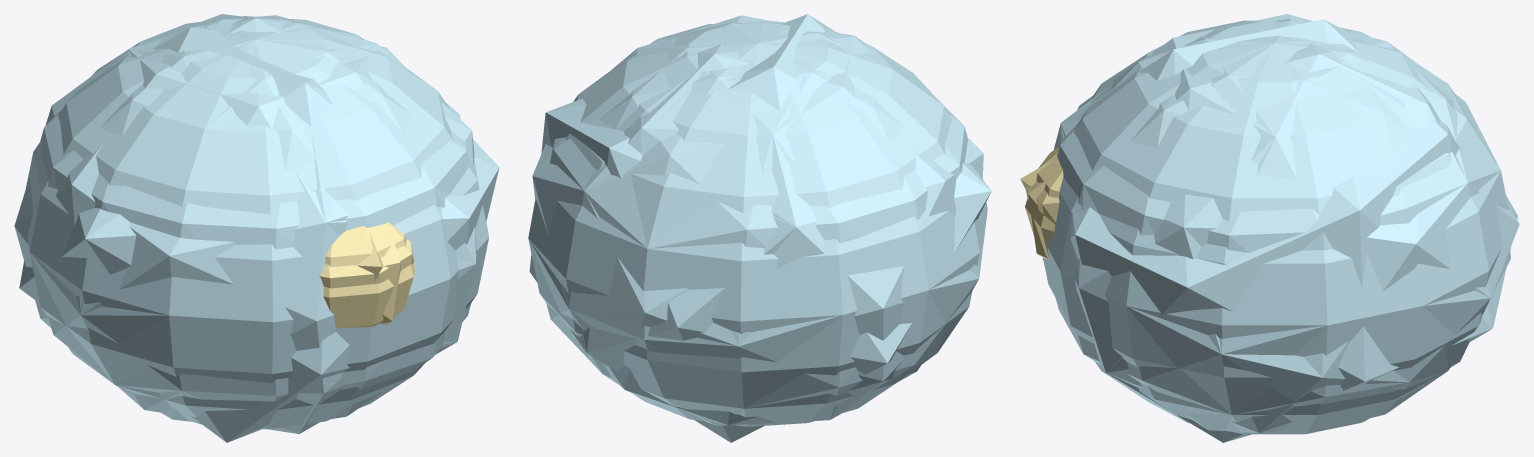
Rendered from SM_Shardling.fbx.
The picture shows the model from 3 angles, left to right: view 1: azimuth 30°, elevation 25°; view 2: azimuth 150°, elevation 25°; view 3: azimuth 270°, elevation 25°; orthographic projection. The views are drawn at different scales.
Visible parts, largest first — view 1: SM_Shardling, LOD1_SM_Shardling, LOD2_SM_Shardling, LOD3_SM_Shardling; view 2: SM_Shardling, LOD1_SM_Shardling, LOD2_SM_Shardling, LOD3_SM_Shardling; view 3: SM_Shardling, LOD1_SM_Shardling, LOD2_SM_Shardling, LOD3_SM_Shardling.
Part boxes in pixels (box(x1,y1,x2,y2)): SM_Shardling: box(25, 16, 488, 429); LOD1_SM_Shardling: box(30, 15, 471, 421); LOD2_SM_Shardling: box(14, 14, 476, 433); LOD3_SM_Shardling: box(19, 25, 499, 442); SM_Shardling: box(528, 21, 987, 426); LOD1_SM_Shardling: box(528, 22, 987, 425); LOD2_SM_Shardling: box(532, 15, 983, 425); LOD3_SM_Shardling: box(529, 14, 991, 442); SM_Shardling: box(1025, 20, 1508, 434); LOD1_SM_Shardling: box(1025, 19, 1510, 431); LOD2_SM_Shardling: box(1028, 14, 1519, 432); LOD3_SM_Shardling: box(1020, 19, 1517, 442).
Bounding box in the file's own units: 0.3559 × 0.3111 × 0.3779.
